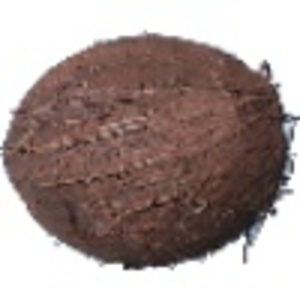coco: (1, 34, 300, 269)
